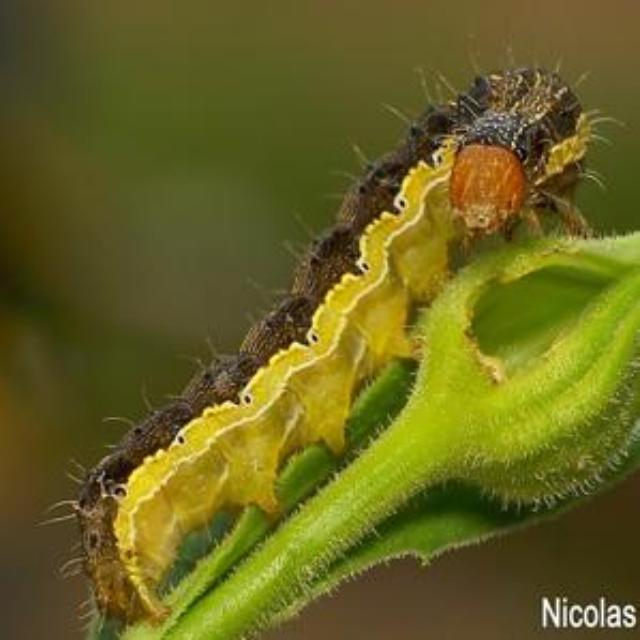Cotton bollworm: (35, 19, 613, 624)
